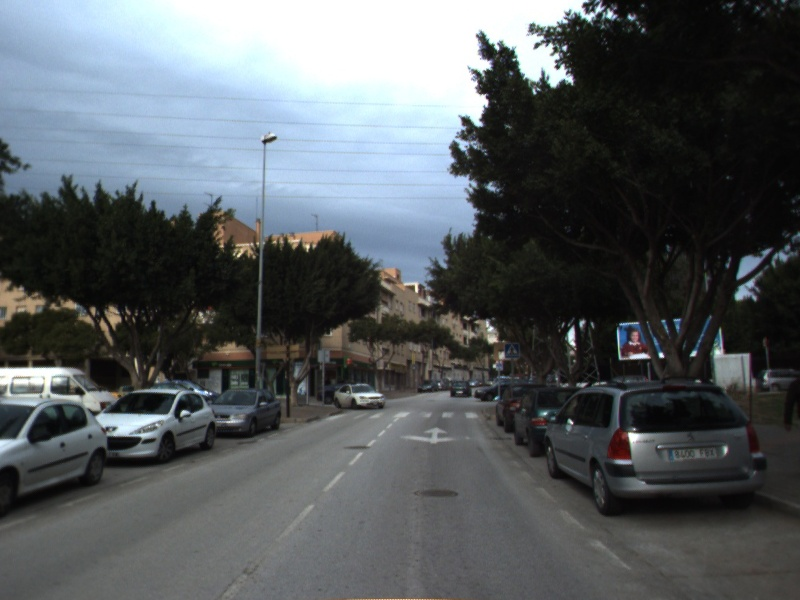STRAIGHT_LEFT_RIGHT: (398, 424, 472, 446)
